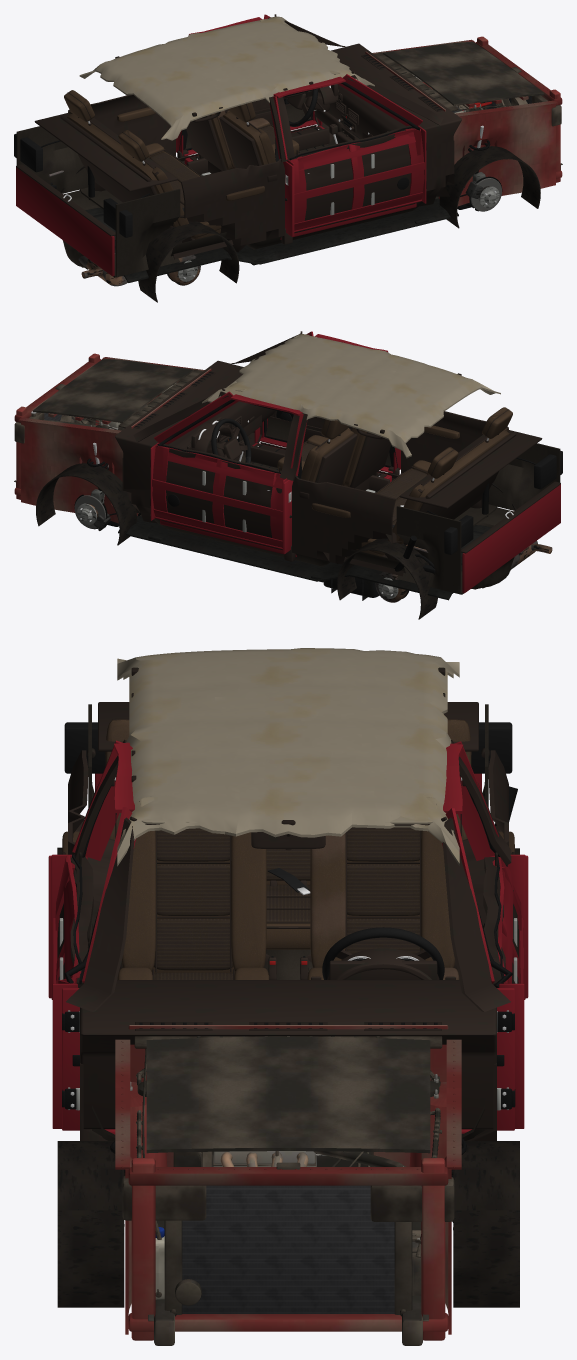
File: hatch-quadrado-v2_completo.glb
3 views of the same model, one above another, from view 1: azimuth 30°, elevation 25°; view 2: azimuth 150°, elevation 25°; view 3: azimuth 270°, elevation 25° (orthographic). The views are drawn at different scales.
Parts seen in each view (by area): view 1: interior_forro_teto, interior_portamalas_carpete, interior_lateral_traseira_dir, engine_paralama_interno_dir, door_card_fr_chapa, interior_painel, hood_manta, interior_banco_traseiro, under_assoalho, door_card_fr, interior_portamalas_tampao, interior_lateral_traseira_esq (+20 smaller); view 2: interior_forro_teto, interior_portamalas_carpete, interior_lateral_traseira_esq, engine_paralama_interno_esq, door_card_fl_chapa, interior_painel, hood_manta, interior_banco_traseiro, under_assoalho, door_card_fl, interior_portamalas_tampao, under_caixa_roda_fl (+21 smaller); view 3: interior_forro_teto, hood_manta, interior_painel, engine_radiador, engine_travessa, interior_banco_dianteiro_dir, interior_banco_dianteiro_esq, interior_acabamento_colunas, under_caixa_roda_fr, under_caixa_roda_fl, jamb_fr_colunas, interior_banco_traseiro (+21 smaller).
Part boxes in pixels (box(x1,y1,x2,y2)): interior_forro_teto: box(79, 16, 374, 140); interior_portamalas_carpete: box(16, 126, 180, 277); interior_lateral_traseira_dir: box(179, 158, 284, 252); engine_paralama_interno_dir: box(453, 100, 558, 206); door_card_fr_chapa: box(287, 127, 426, 236); interior_painel: box(307, 43, 461, 147); hood_manta: box(383, 41, 543, 107); interior_banco_traseiro: box(60, 90, 221, 240); under_assoalho: box(85, 198, 458, 282); door_card_fr: box(289, 125, 414, 220); interior_portamalas_tampao: box(34, 113, 177, 191); interior_lateral_traseira_esq: box(90, 94, 176, 191); interior_forro_teto: box(202, 334, 500, 458); interior_portamalas_carpete: box(396, 443, 560, 594); interior_lateral_traseira_esq: box(292, 475, 401, 564); engine_paralama_interno_esq: box(18, 417, 123, 523); door_card_fl_chapa: box(150, 444, 287, 553); interior_painel: box(115, 360, 275, 489); hood_manta: box(33, 358, 193, 424); interior_banco_traseiro: box(356, 407, 516, 558); under_assoalho: box(118, 516, 491, 600); door_card_fl: box(157, 444, 281, 537); interior_portamalas_tampao: box(399, 430, 542, 508); under_caixa_roda_fl: box(36, 463, 136, 545); interior_forro_teto: box(117, 648, 459, 866); hood_manta: box(146, 1036, 430, 1153); interior_painel: box(80, 948, 496, 1129); engine_radiador: box(164, 1166, 412, 1316); engine_travessa: box(122, 1151, 454, 1340); interior_banco_dianteiro_dir: box(117, 828, 276, 979); interior_banco_dianteiro_esq: box(300, 827, 459, 979); interior_acabamento_colunas: box(66, 739, 511, 1011); under_caixa_roda_fr: box(57, 1141, 124, 1307); under_caixa_roda_fl: box(453, 1141, 519, 1307); jamb_fr_colunas: box(48, 740, 136, 1130); interior_banco_traseiro: box(105, 718, 471, 970).
Size of what is drawn, in the model's own units: 3.66 by 1.38 by 1.61.
53 materials, 53 textured.
